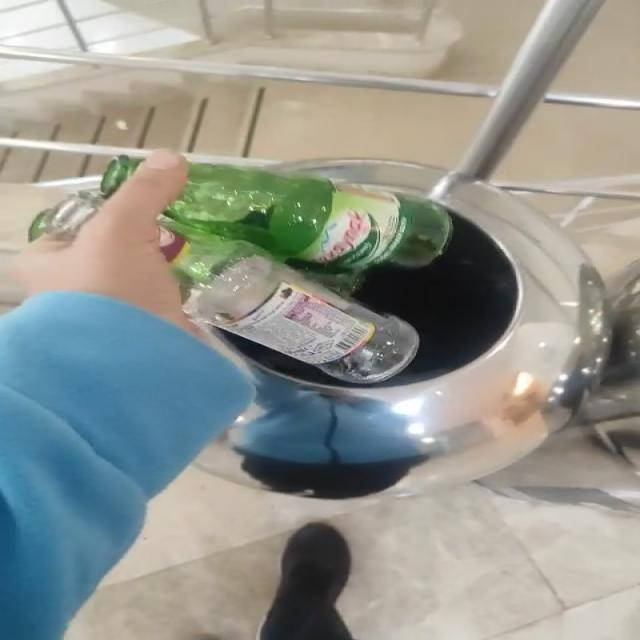Glass: (160, 164, 452, 384)
